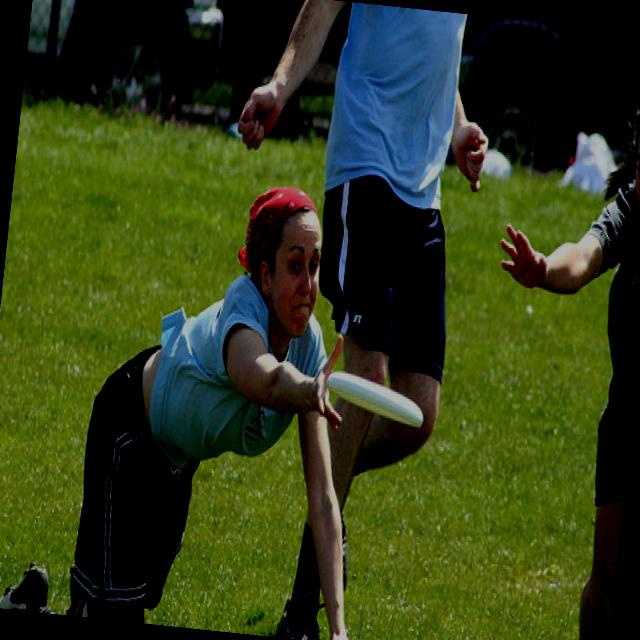Vehicle: (448, 13, 640, 181), (20, 0, 229, 128)
